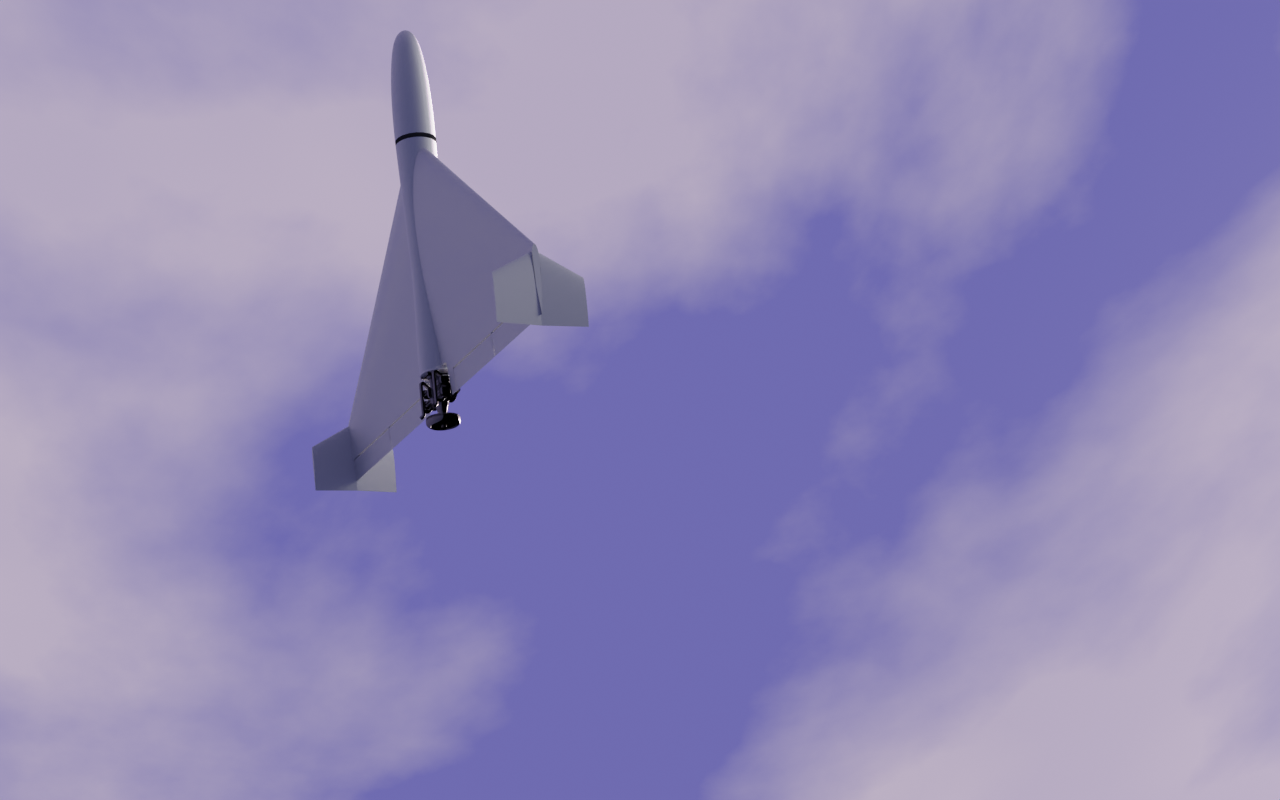shahed: (312, 30, 591, 495)
